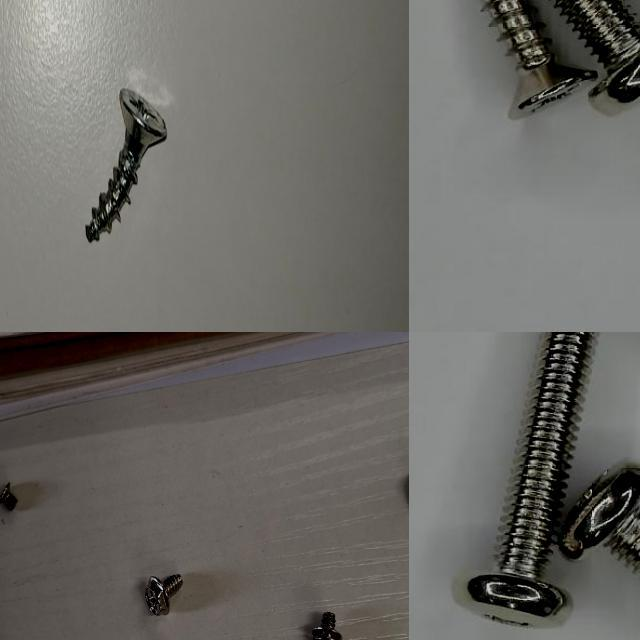Screw: (468, 332, 597, 617), (481, 0, 598, 120), (85, 88, 167, 242), (558, 465, 640, 574), (554, 0, 640, 102), (142, 571, 184, 619), (306, 608, 344, 640), (0, 478, 19, 514)
